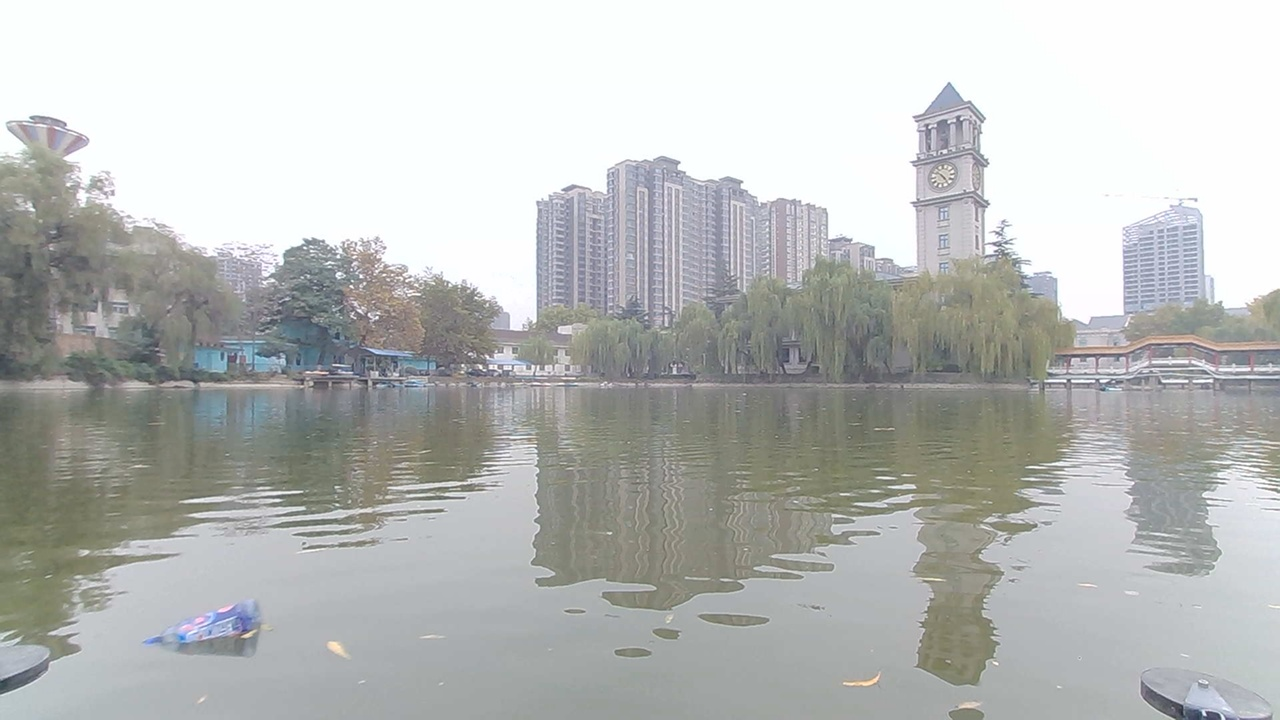bottle: (168, 595, 259, 653)
